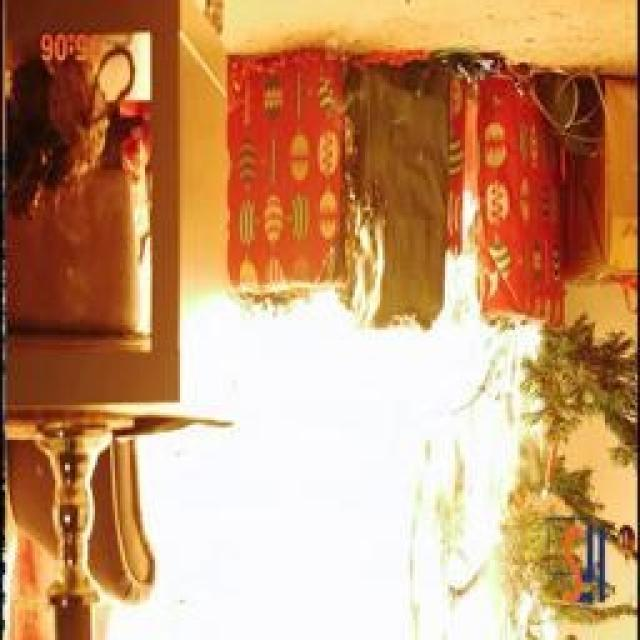fire: (85, 252, 575, 640)
